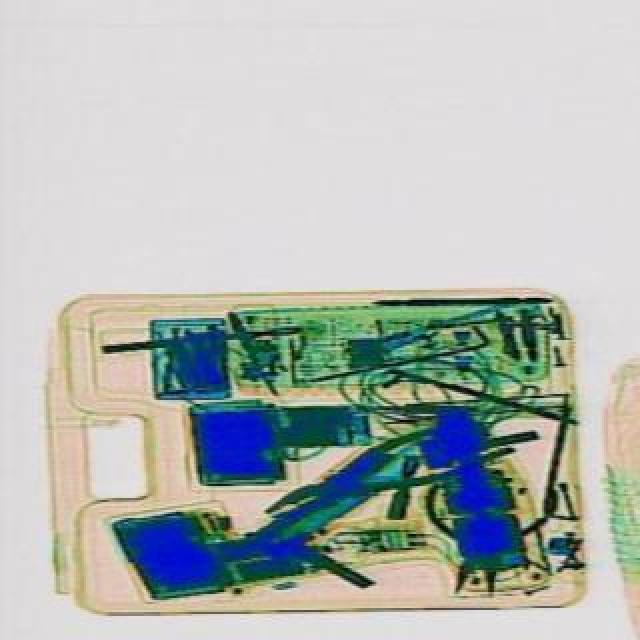wrench: (250, 410, 484, 540), (406, 464, 556, 604)
